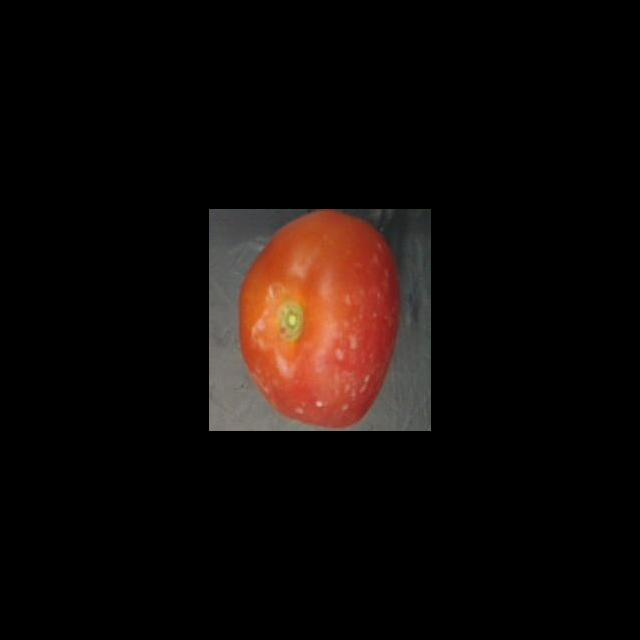tomato: (234, 210, 406, 431)
